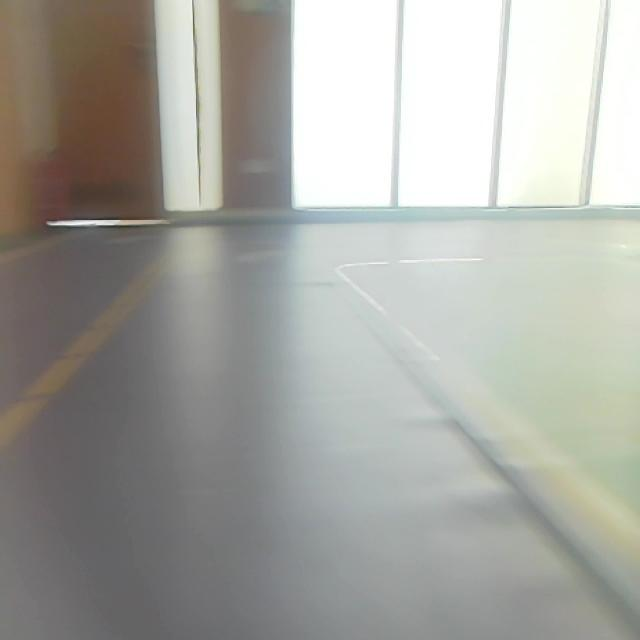left_lane: (2, 248, 175, 460)
right_lane: (338, 270, 640, 567)
